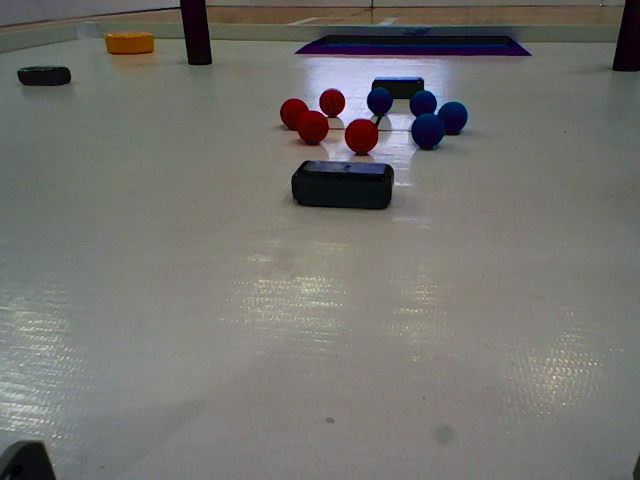black: (288, 160, 405, 209), (17, 65, 71, 88), (373, 75, 423, 97)
blue: (409, 114, 444, 148), (436, 98, 469, 133), (364, 85, 393, 115), (411, 90, 436, 116)
kuang: (288, 28, 535, 68)
red: (344, 116, 379, 154), (296, 111, 327, 146), (279, 96, 308, 129), (317, 86, 344, 115)
yellow: (102, 31, 153, 55)
zhuzi: (179, 1, 220, 66), (610, 3, 640, 72)
